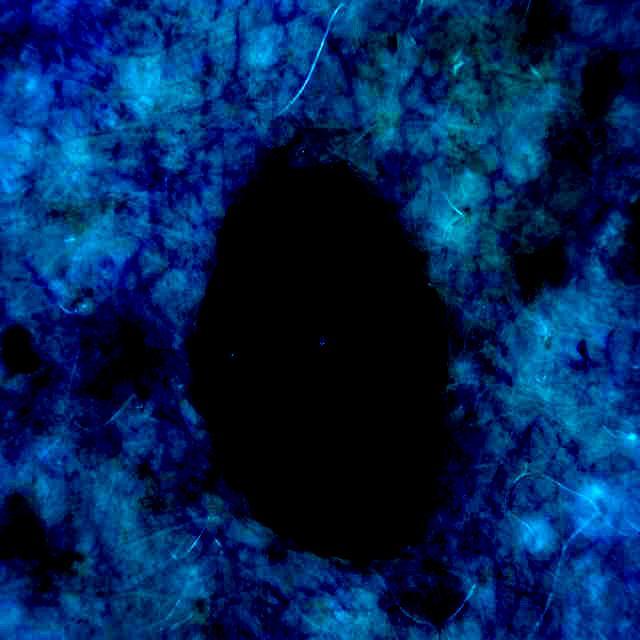BKL: (197, 168, 445, 558)
